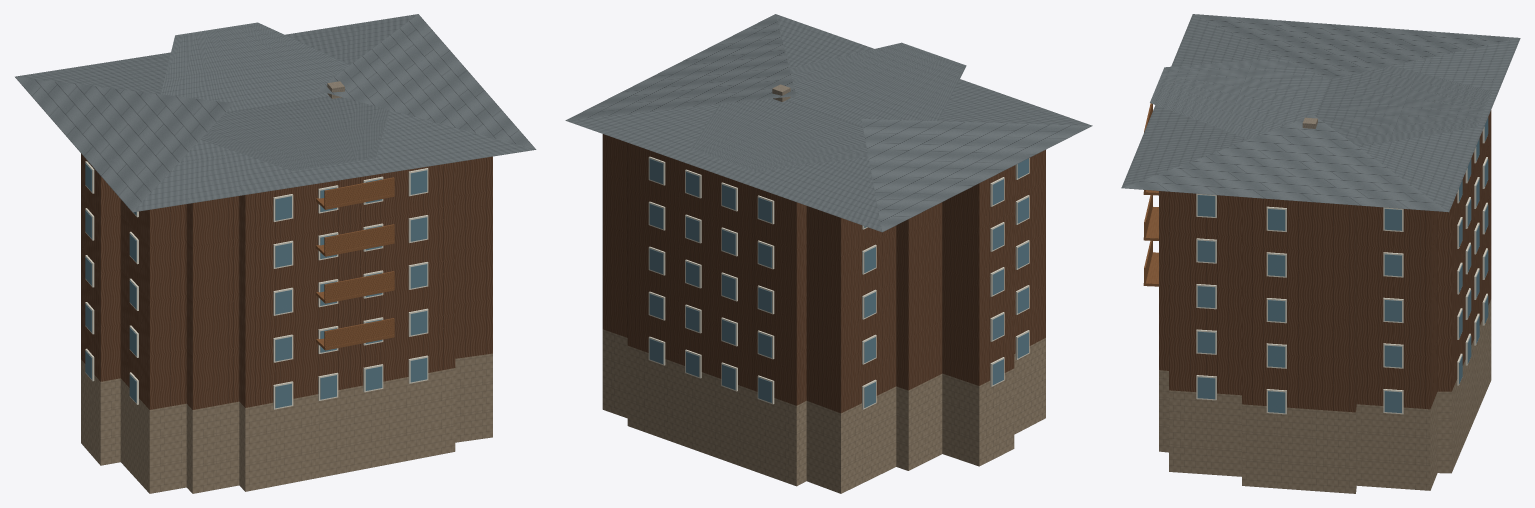
The model's file is core_0060.gltf.
3 renders of one model, left to right at view 1: azimuth 30°, elevation 25°; view 2: azimuth 150°, elevation 25°; view 3: azimuth 270°, elevation 25°, orthographic. The views are drawn at different scales.
Visible parts, largest first — view 1: core_0060; view 2: core_0060; view 3: core_0060.
Part boxes in pixels (x1,y1,x2,y2): core_0060: (15,14,536,493); core_0060: (565,14,1092,493); core_0060: (1121,14,1520,493).
Size of the model in its own units: 26.59 by 19.45 by 22.63.
Materials: 7 (7 with a texture image).
